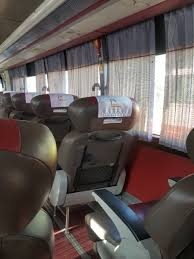seat: (91, 186, 183, 250)
